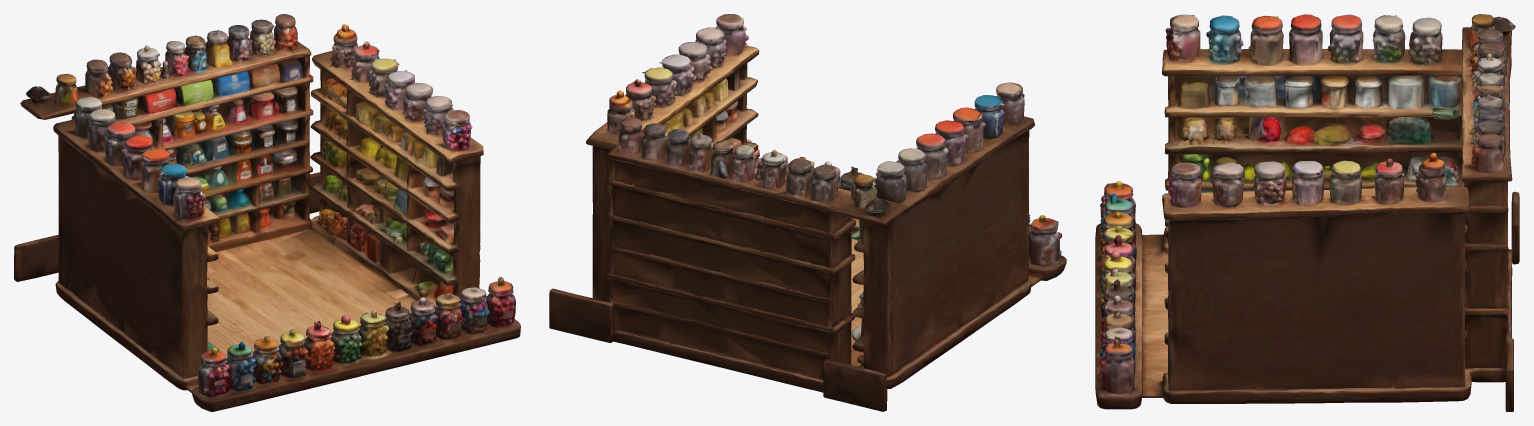
Rendered from candy-garage.glb.
3 renders of one model, left to right at view 1: azimuth 30°, elevation 25°; view 2: azimuth 150°, elevation 25°; view 3: azimuth 270°, elevation 25°, orthographic. The views are drawn at different scales.
Parts seen in each view (by area): view 1: tripo_node_11d50ebe-9fee-42c9-bb46-b33c1cc06969; view 2: tripo_node_11d50ebe-9fee-42c9-bb46-b33c1cc06969; view 3: tripo_node_11d50ebe-9fee-42c9-bb46-b33c1cc06969.
Boxes of the visible parts, box(x1,y1,x2,y2) form: tripo_node_11d50ebe-9fee-42c9-bb46-b33c1cc06969: box(14, 14, 520, 411); tripo_node_11d50ebe-9fee-42c9-bb46-b33c1cc06969: box(549, 14, 1066, 411); tripo_node_11d50ebe-9fee-42c9-bb46-b33c1cc06969: box(1095, 14, 1519, 411).
Size of the model in its own units: 6.85 by 4.3 by 6.79.
1 material, 1 textured.
